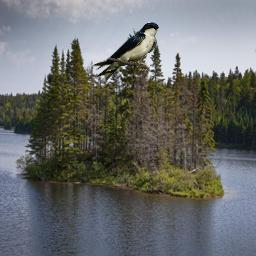Swallow: (91, 22, 159, 81)
